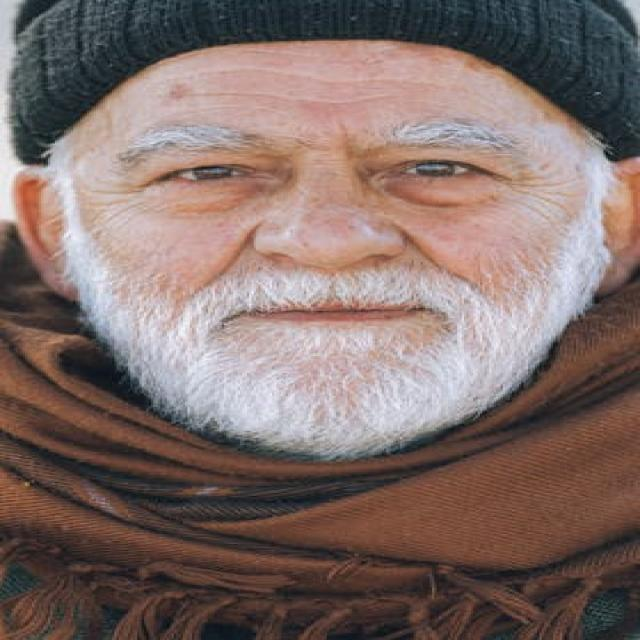no_mask: (21, 30, 640, 466)
